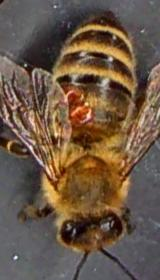varroa_mite: (60, 96, 104, 132), (50, 76, 94, 110)
